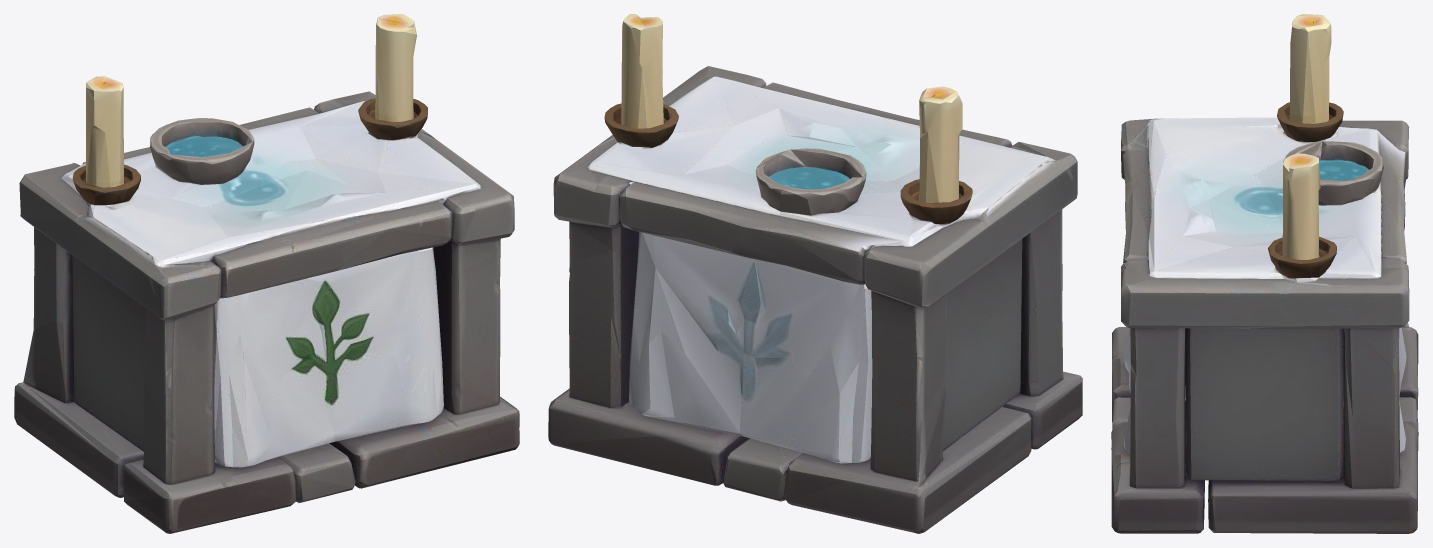
The model's file is altar.glb.
3 renders of one model, left to right at view 1: azimuth 30°, elevation 25°; view 2: azimuth 150°, elevation 25°; view 3: azimuth 270°, elevation 25°, orthographic. The views are drawn at different scales.
Visible parts, largest first — view 1: altar; view 2: altar; view 3: altar.
Boxes of the visible parts, x1,y1,x2,y2 form: altar: [14, 14, 519, 533]; altar: [548, 14, 1082, 533]; altar: [1111, 14, 1418, 533].
Bounding box in the file's own units: 1.6 × 1.6 × 1.22.
1 material, 1 textured.
